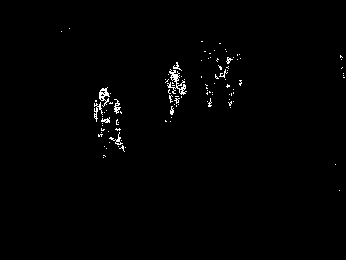person: (91, 86, 128, 157), (160, 61, 190, 121)
